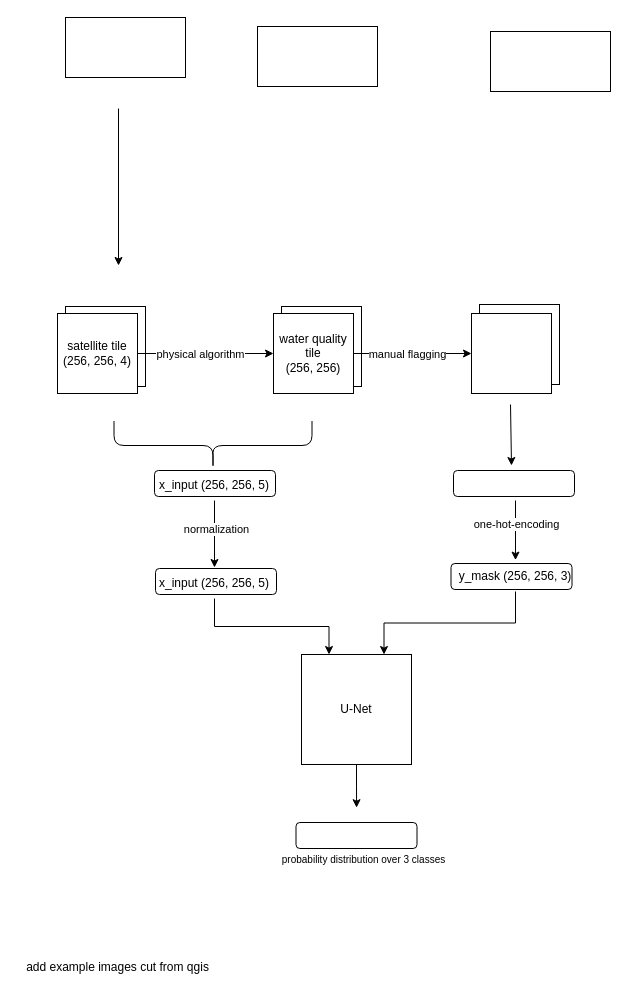
This 628x998 diagram has some shape labels left out. Here are the shapes that lost their labels. From the top down, the centre of each, then its label:
At [511,353]: "tile true mask (256, 256)".
At [513,483]: "y_mask (256, 256)".
At [356,835]: "y_pred (256, 256, 3)".
